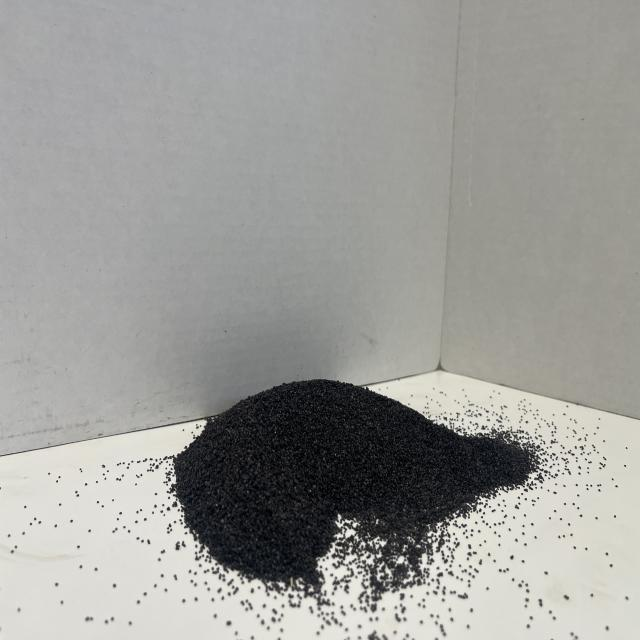Poppy Seeds: (172, 368, 541, 620)
